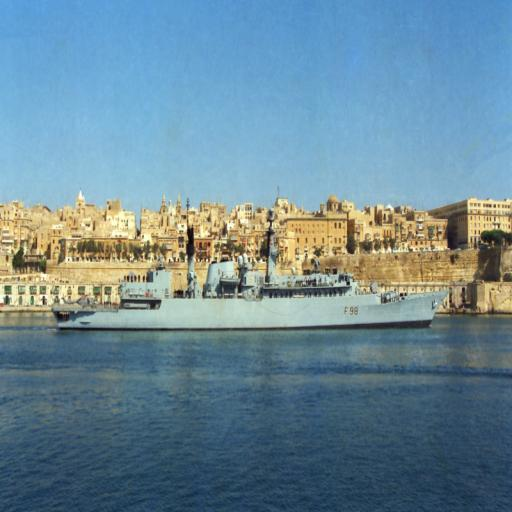Fragata: (51, 225, 452, 334)
